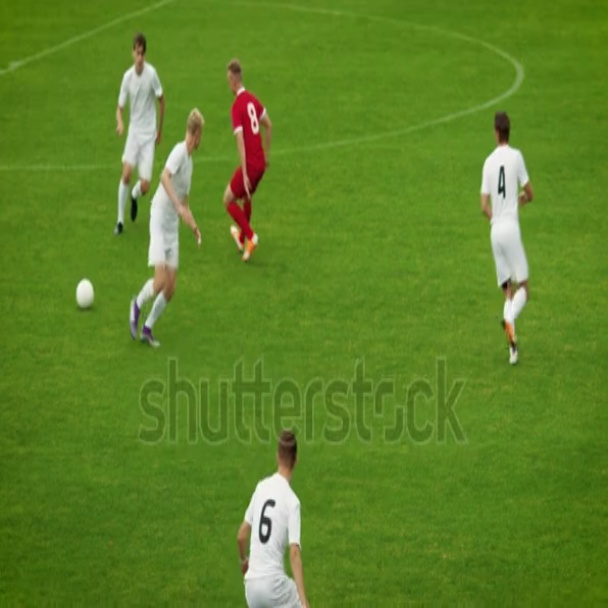ball: (77, 278, 94, 307)
